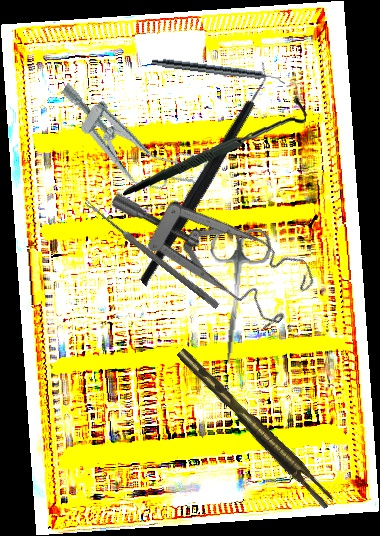Chopper: (79, 58, 327, 288)
Handpiece: (150, 56, 287, 86)
Hook Surgical: (123, 84, 308, 209)
Iris Scissors: (200, 225, 273, 367)
Speculum: (108, 129, 325, 358), (41, 71, 214, 214)
Surgical Spoon: (82, 198, 221, 310)
Tissue Forceps: (176, 340, 336, 514)
